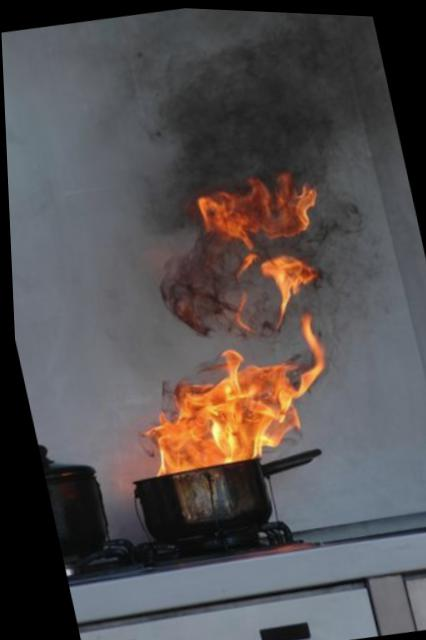fire: (79, 158, 367, 495)
